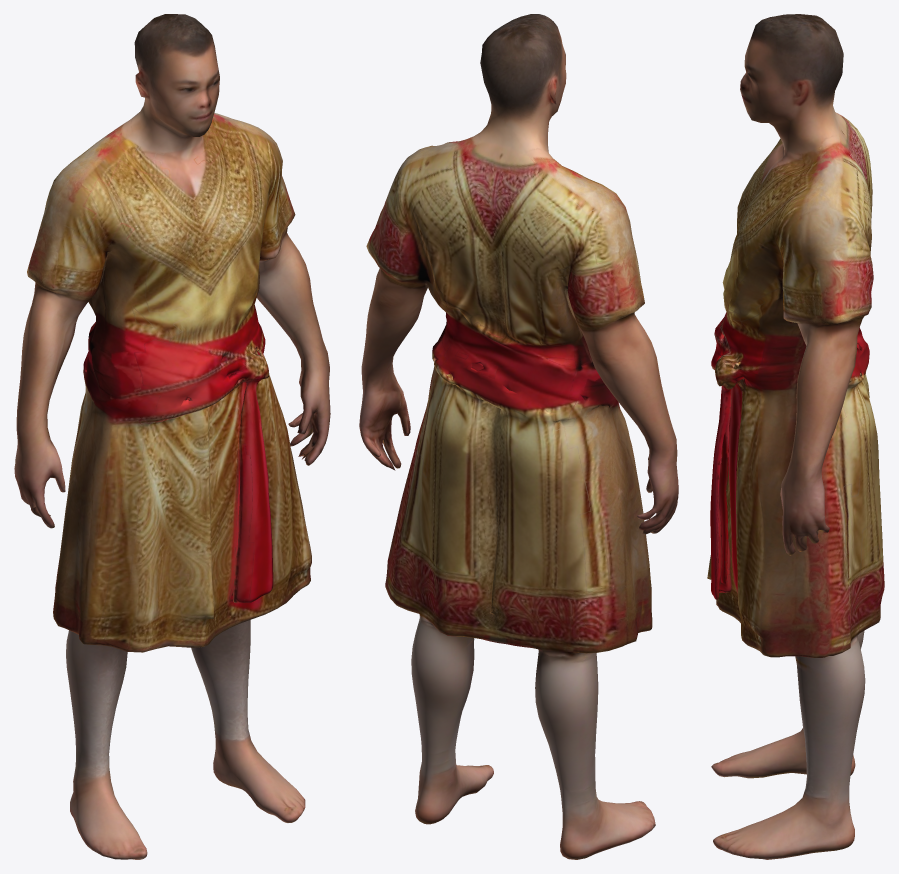
Rendered from ancient_greek_1.glb.
The picture shows the model from 3 angles, left to right: view 1: azimuth 30°, elevation 25°; view 2: azimuth 150°, elevation 25°; view 3: azimuth 270°, elevation 25°; orthographic projection.
Visible parts, largest first — view 1: Object_4; view 2: Object_4; view 3: Object_4.
Part boxes in pixels (bbox=[...]): Object_4: bbox=[14, 14, 330, 859]; Object_4: bbox=[359, 14, 678, 859]; Object_4: bbox=[707, 14, 884, 859].
Bounding box in the file's own units: 0.8128 × 2 × 0.4044.
Materials: 1 (1 with a texture image).
